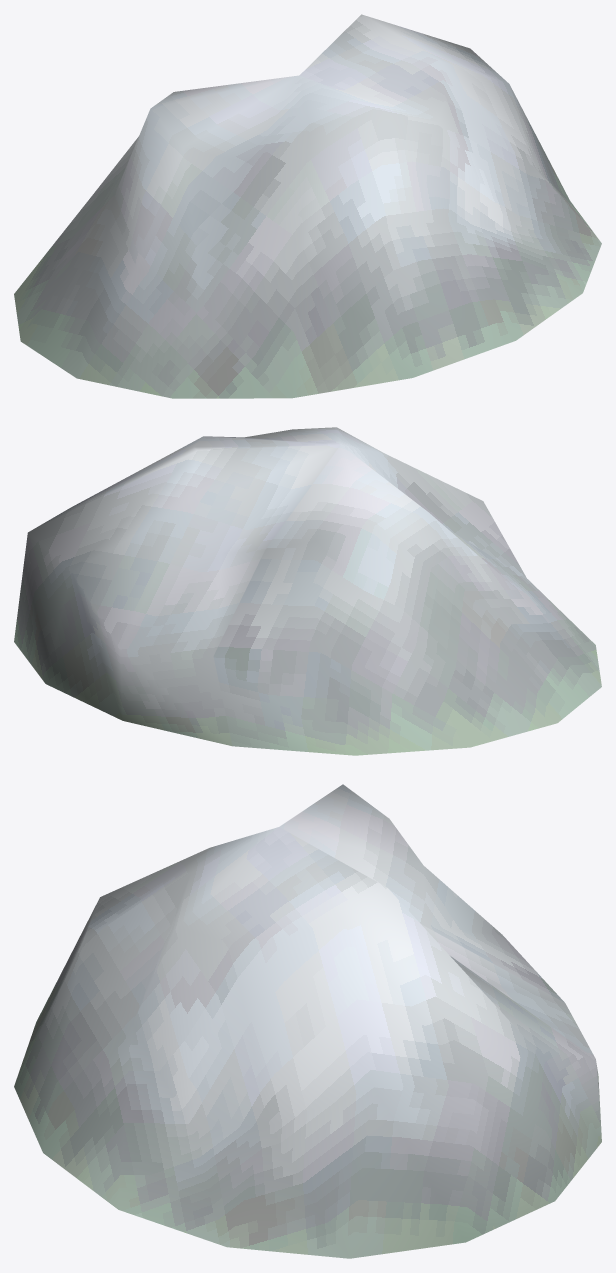
Rendered from TROLLHOLE02_STONEA17.fbx.
The picture shows the model from 3 angles, top to bottom: view 1: azimuth 30°, elevation 25°; view 2: azimuth 150°, elevation 25°; view 3: azimuth 270°, elevation 25°; orthographic projection. The views are drawn at different scales.
Parts seen in each view (by area): view 1: TROLLHOLE02_STONEA17; view 2: TROLLHOLE02_STONEA17; view 3: TROLLHOLE02_STONEA17.
Boxes of the visible parts, bbox=[...] form: TROLLHOLE02_STONEA17: bbox=[14, 14, 601, 398]; TROLLHOLE02_STONEA17: bbox=[14, 427, 601, 755]; TROLLHOLE02_STONEA17: bbox=[14, 784, 601, 1258].
Bounding box in the file's own units: 16637 × 6320 × 12933.
1 material, 1 textured.
